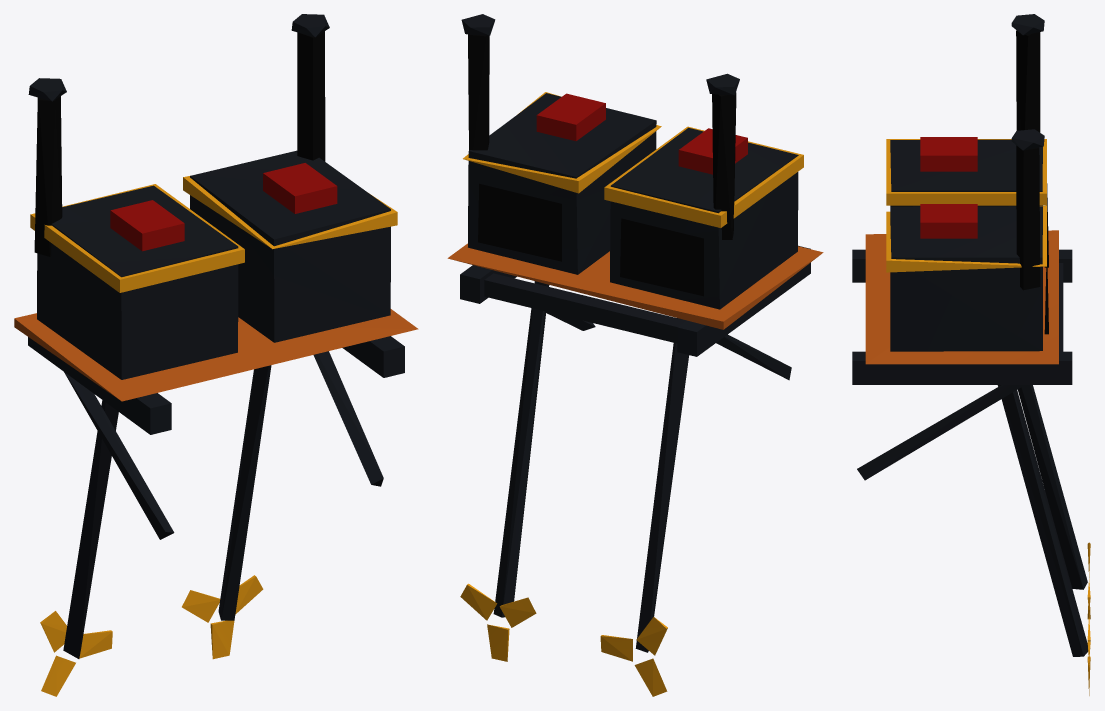
File: tb_upg_twin_diesel.three-web-toon.lod50.glb
3 renders of one model, left to right at view 1: azimuth 30°, elevation 25°; view 2: azimuth 150°, elevation 25°; view 3: azimuth 270°, elevation 25°, orthographic. The views are drawn at different scales.
Parts seen in each view (by area): view 1: tb_upg_twin_diesel_mesh_lod; view 2: tb_upg_twin_diesel_mesh_lod; view 3: tb_upg_twin_diesel_mesh_lod.
Part boxes in pixels (x1,y1,x2,y2): tb_upg_twin_diesel_mesh_lod: [14, 14, 418, 696]; tb_upg_twin_diesel_mesh_lod: [447, 14, 823, 696]; tb_upg_twin_diesel_mesh_lod: [852, 14, 1090, 695].
Bounding box in the file's own units: 1.4 × 2.92 × 1.08.
